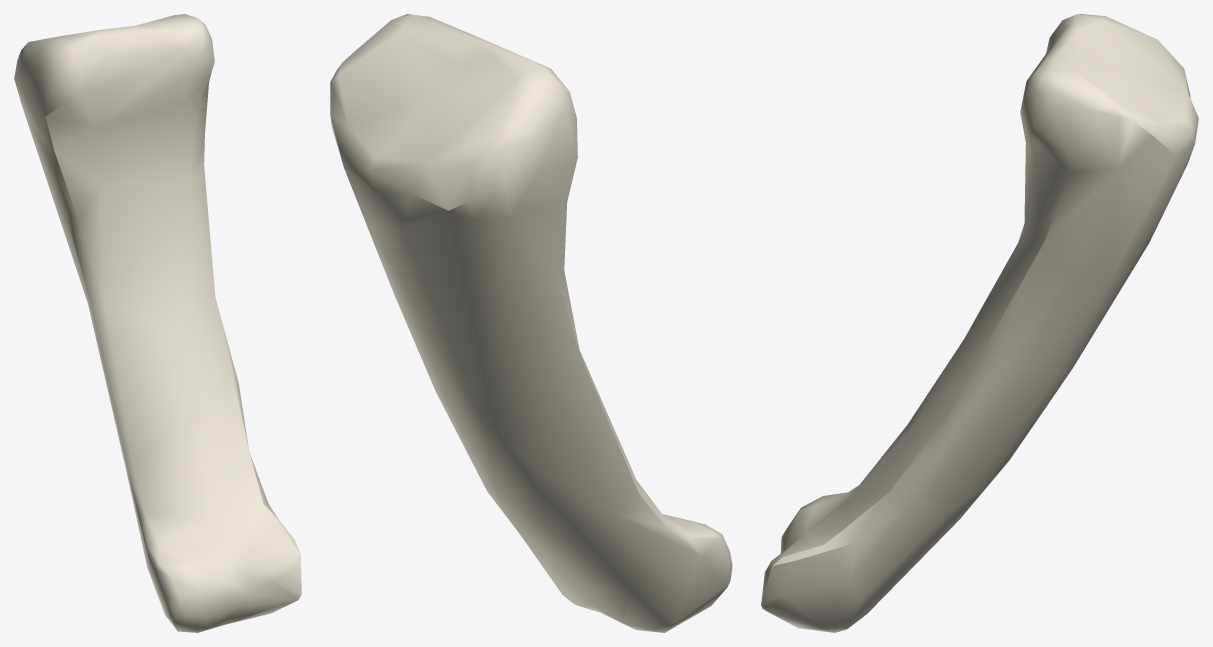
Rendered from fma24453_fj3326.glb.
3 renders of one model, left to right at view 1: azimuth 30°, elevation 25°; view 2: azimuth 150°, elevation 25°; view 3: azimuth 270°, elevation 25°, orthographic. The views are drawn at different scales.
Parts seen in each view (by area): view 1: FMA24453_FJ3326; view 2: FMA24453_FJ3326; view 3: FMA24453_FJ3326.
Part boxes in pixels (box(x1,y1,x2,y2)): FMA24453_FJ3326: box(14, 14, 301, 632); FMA24453_FJ3326: box(330, 14, 732, 632); FMA24453_FJ3326: box(761, 14, 1198, 632).
Bounding box in the file's own units: 0.0132 × 0.039 × 0.0263.
